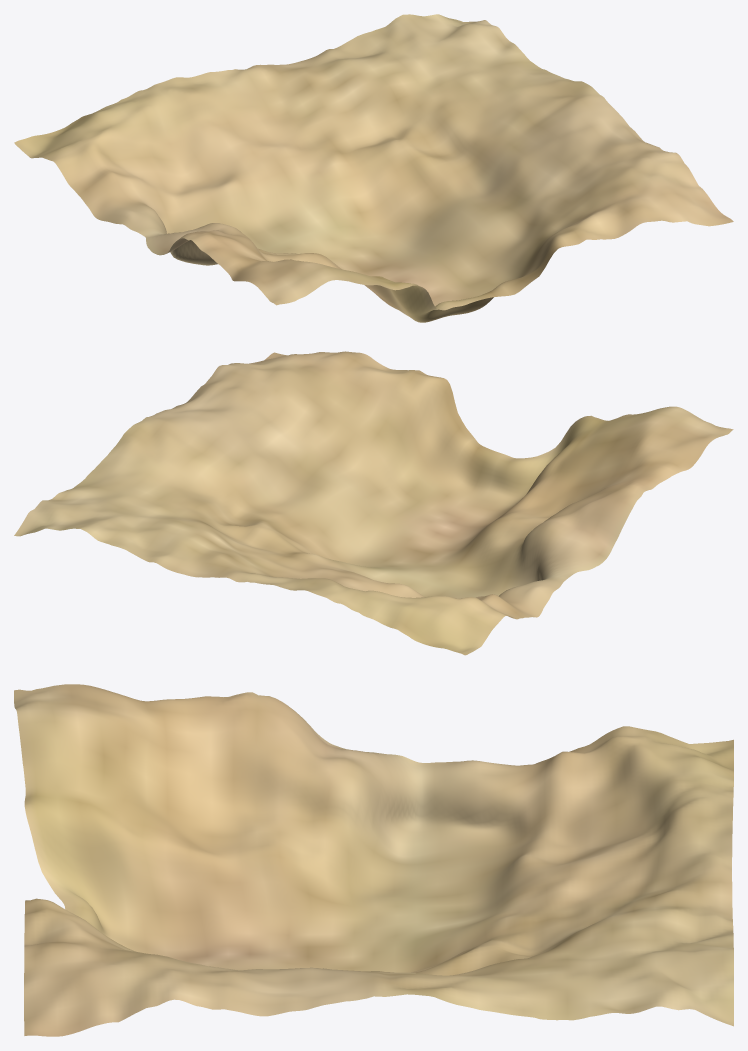
File: valley.glb
The picture shows the model from 3 angles, top to bottom: view 1: azimuth 30°, elevation 25°; view 2: azimuth 150°, elevation 25°; view 3: azimuth 270°, elevation 25°; orthographic projection. The views are drawn at different scales.
Parts seen in each view (by area): view 1: Valley; view 2: Valley; view 3: Valley.
Part boxes in pixels (bbox=[...]): Valley: bbox=[14, 14, 733, 322]; Valley: bbox=[14, 351, 733, 655]; Valley: bbox=[14, 684, 733, 1036].
Size of the model in its own units: 3167 by 707 by 3170.
Materials: 1 (1 with a texture image).
